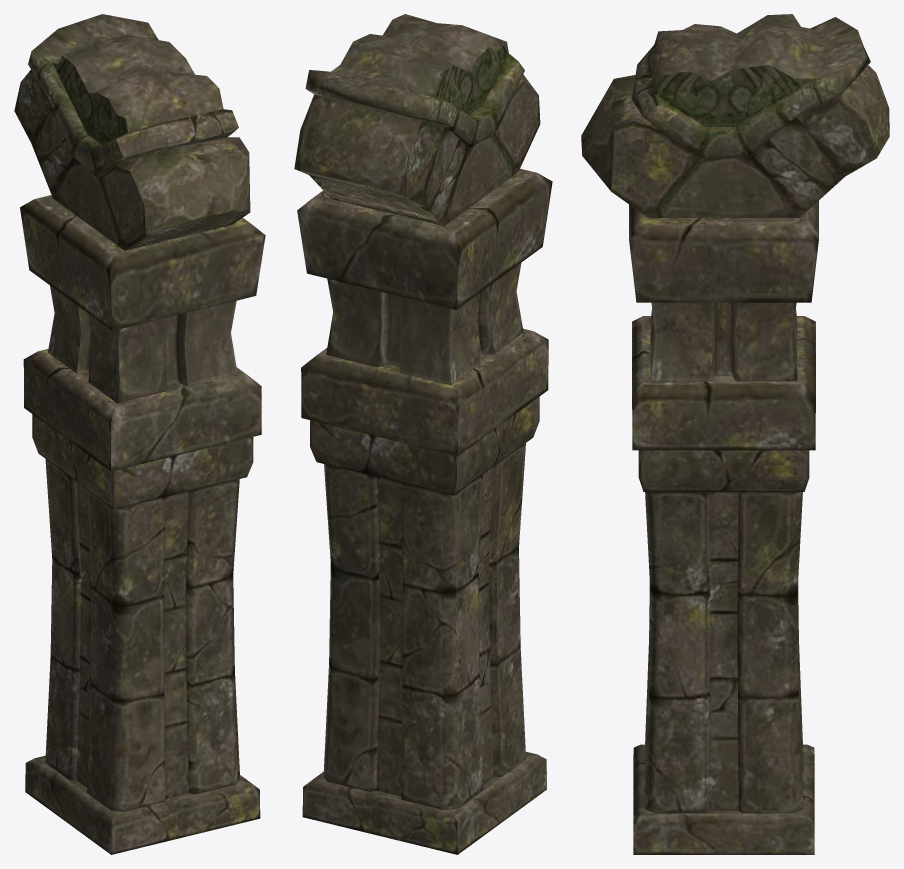
Rendered from Arch_Alley_06_c-transformed.glb.
The picture shows the model from 3 angles, left to right: view 1: azimuth 30°, elevation 25°; view 2: azimuth 150°, elevation 25°; view 3: azimuth 270°, elevation 25°; orthographic projection. The views are drawn at different scales.
Parts seen in each view (by area): view 1: default; view 2: default; view 3: default.
Boxes of the visible parts, x1,y1,x2,y2 form: default: (14, 14, 265, 854); default: (294, 14, 552, 854); default: (581, 14, 889, 854).
Size of the model in its own units: 1.1 by 5.04 by 1.79.
Materials: 2 (2 with a texture image).
